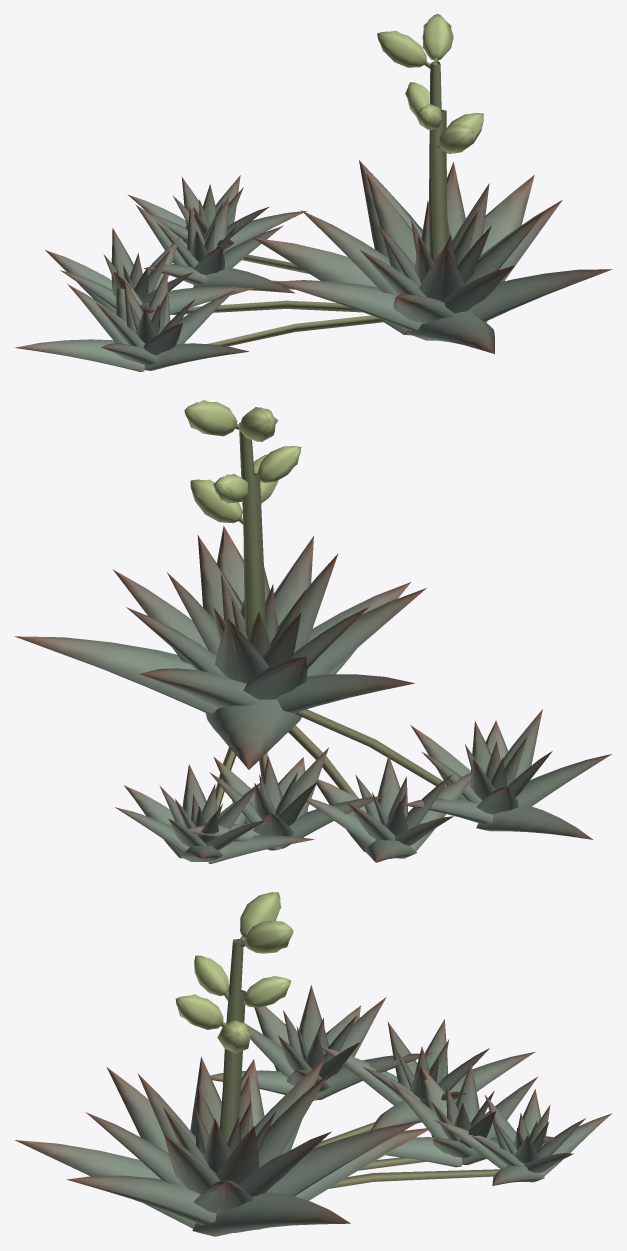
File: forage-rosette.glb
3 views of the same model, one above another, from view 1: azimuth 30°, elevation 25°; view 2: azimuth 150°, elevation 25°; view 3: azimuth 270°, elevation 25° (orthographic). The views are drawn at different scales.
Visible parts, largest first — view 1: body, bodyFar, fruit, fruitFar; view 2: body, bodyFar, fruit, fruitFar; view 3: body, bodyFar, fruit, fruitFar.
Part boxes in pixels (x1=…): body: x1=14, y1=61, x2=612, y2=371; bodyFar: x1=48, y1=110, x2=603, y2=353; fruit: x1=377, y1=14, x2=483, y2=153; fruitFar: x1=381, y1=15, x2=481, y2=153; body: x1=14, y1=422, x2=611, y2=863; bodyFar: x1=19, y1=473, x2=470, y2=862; fruit: x1=184, y1=402, x2=301, y2=524; fruitFar: x1=188, y1=400, x2=298, y2=516; body: x1=15, y1=939, x2=612, y2=1236; bodyFar: x1=19, y1=986, x2=551, y2=1232; fruit: x1=175, y1=892, x2=293, y2=1053; fruitFar: x1=178, y1=893, x2=289, y2=1050.
Size of the model in its own units: 0.4537 by 0.2486 by 0.4206.
Materials: 1 (1 with a texture image).
